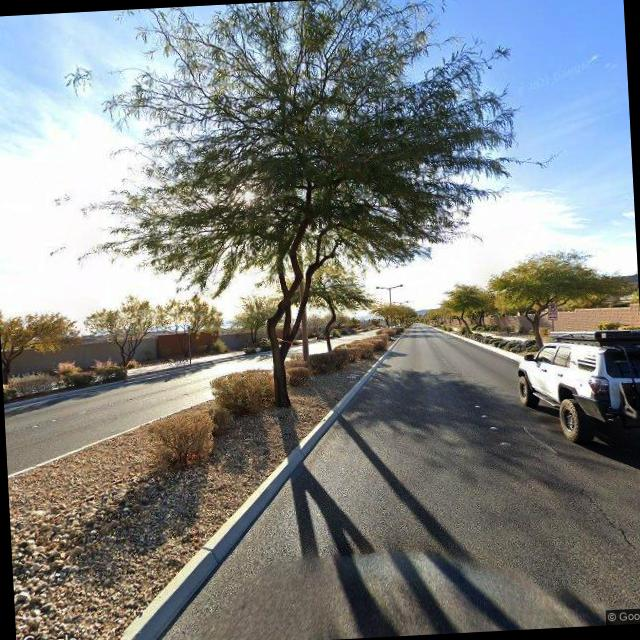crack: (573, 482, 640, 606)
